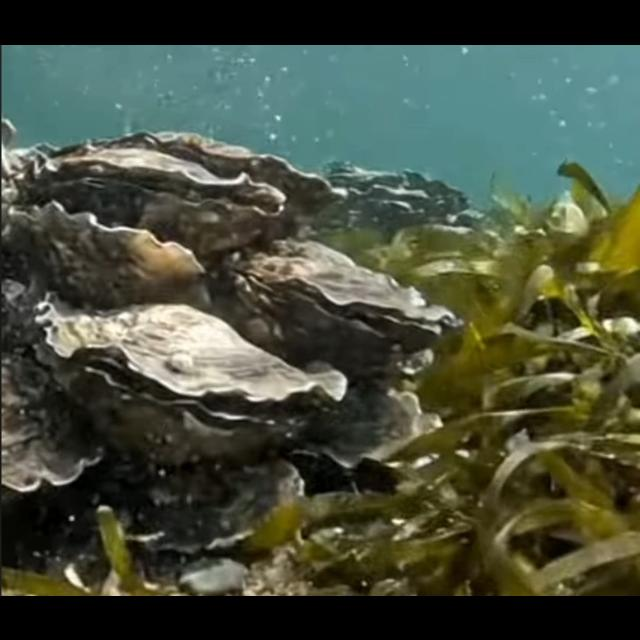Oyster-Closed: (94, 126, 348, 218), (94, 450, 306, 558), (11, 198, 208, 306), (0, 334, 110, 490), (292, 374, 444, 478)
Oyster-Open: (30, 292, 348, 464), (224, 237, 463, 366), (12, 144, 288, 246)
